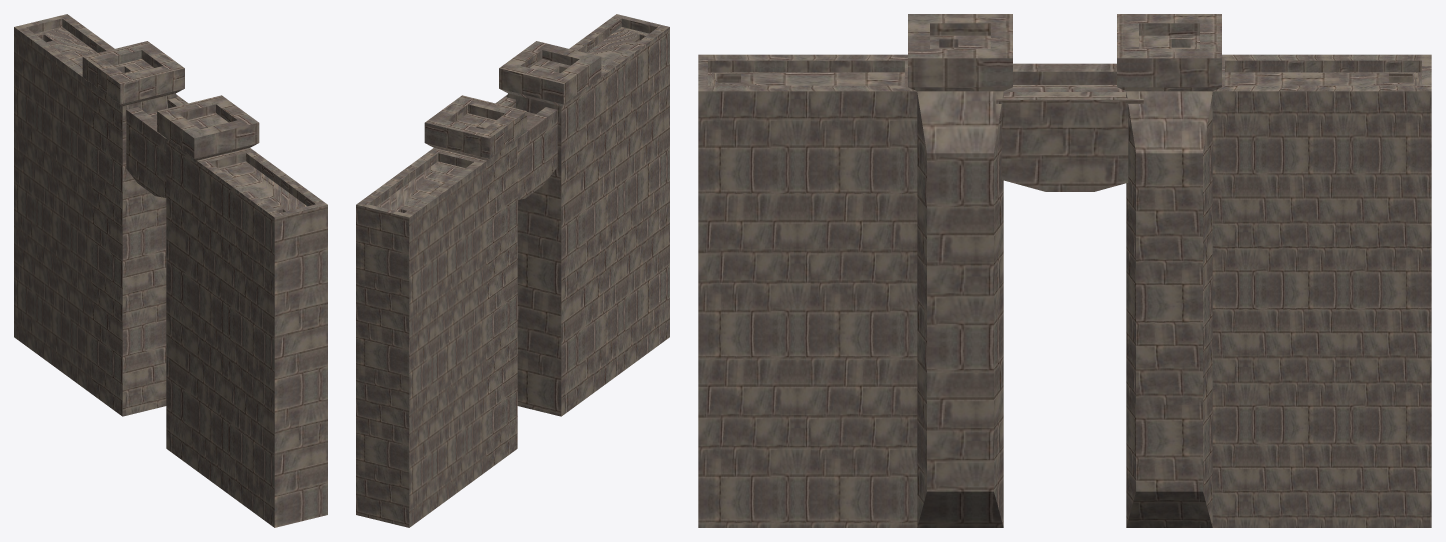
The model's file is Dwarf Gates.obj.
3 renders of one model, left to right at view 1: azimuth 30°, elevation 25°; view 2: azimuth 150°, elevation 25°; view 3: azimuth 270°, elevation 25°, orthographic. The views are drawn at different scales.
Parts seen in each view (by area): view 1: Plane; view 2: Plane; view 3: Plane.
Part boxes in pixels (x1,y1,x2,y2): Plane: (14, 14, 327, 527); Plane: (356, 14, 669, 527); Plane: (698, 14, 1431, 527).
Bounding box in the file's own units: 0.1705 × 0.7049 × 0.9893.
Materials: 2 (1 with a texture image).
